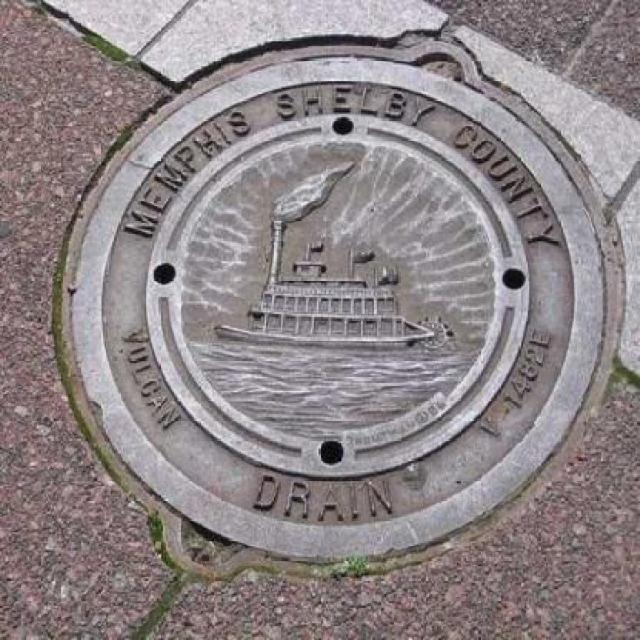Manhole: (45, 28, 632, 576)
